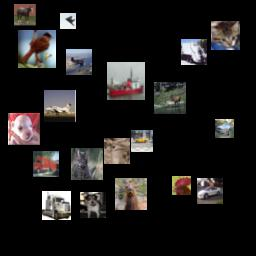airplane: (44, 90, 76, 122), (66, 49, 92, 75), (60, 13, 76, 29)
automobile: (197, 178, 223, 204), (131, 130, 153, 152), (215, 119, 234, 138)
bird: (18, 30, 56, 68), (104, 138, 130, 164), (172, 176, 191, 195)
cat: (71, 148, 103, 180), (211, 21, 240, 50)
deer: (154, 82, 186, 114), (115, 178, 147, 210)
dog: (8, 113, 40, 145), (80, 192, 106, 218)
ship: (107, 62, 145, 100)
truck: (42, 191, 71, 220), (33, 151, 59, 177), (181, 39, 207, 65)
